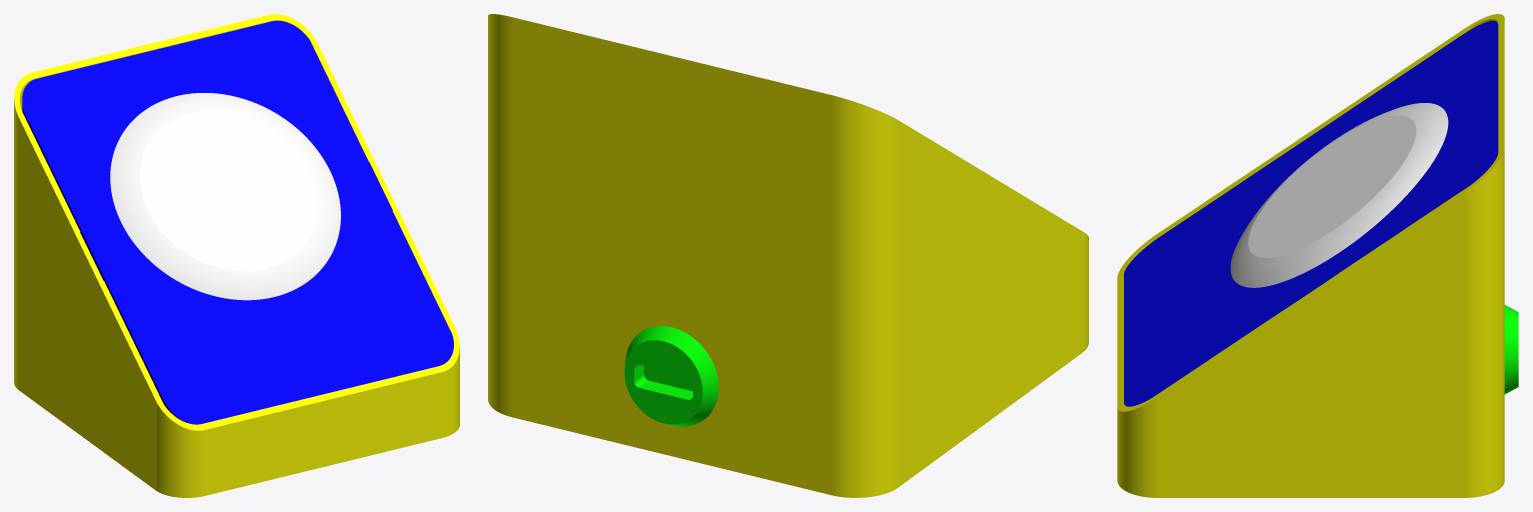
Rendered from radar_v5.glb.
3 renders of one model, left to right at view 1: azimuth 30°, elevation 25°; view 2: azimuth 150°, elevation 25°; view 3: azimuth 270°, elevation 25°, orthographic. The views are drawn at different scales.
Visible parts, largest first — view 1: faceplate, body, screen; view 2: body, plug; view 3: body, faceplate, screen, plug.
Part boxes in pixels (bbox=[...]): faceplate: bbox=[22, 20, 453, 424]; body: bbox=[14, 14, 459, 497]; screen: bbox=[110, 93, 340, 300]; body: bbox=[488, 14, 1088, 497]; plug: bbox=[624, 326, 718, 426]; body: bbox=[1117, 14, 1504, 497]; faceplate: bbox=[1124, 21, 1498, 406]; screen: bbox=[1230, 103, 1448, 287]; plug: bbox=[1504, 305, 1518, 394].
Size of the model in its own units: 0.0603 by 0.0571 by 0.0625.
